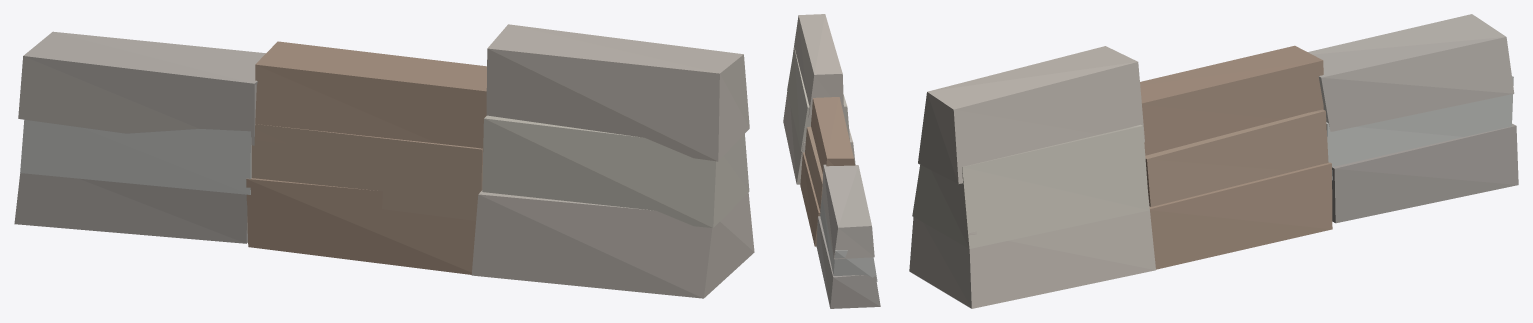
The model's file is farm_-16_-24_mid.glb.
The picture shows the model from 3 angles, left to right: view 1: azimuth 30°, elevation 25°; view 2: azimuth 150°, elevation 25°; view 3: azimuth 270°, elevation 25°; orthographic projection. The views are drawn at different scales.
Visible parts, largest first — view 1: geometry_0; view 2: geometry_0; view 3: geometry_0.
Boxes of the visible parts, x1=… form: geometry_0: x1=14, y1=24, x2=754, y2=298; geometry_0: x1=783, y1=14, x2=880, y2=308; geometry_0: x1=909, y1=14, x2=1518, y2=308.
Size of the model in its own units: 3.23 by 1.77 by 4.04.
